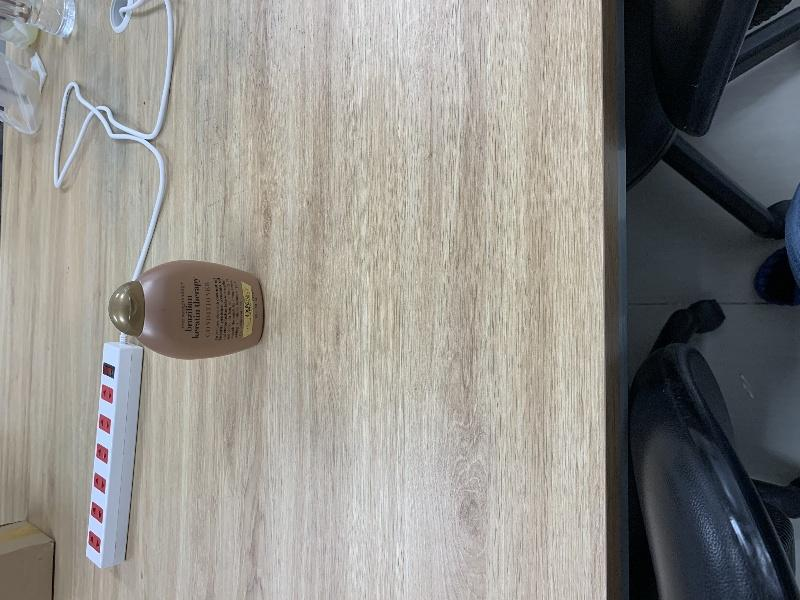BrazilianKerationTherapy_Conditioner: (108, 259, 264, 360)
